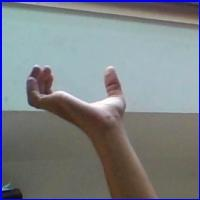B: (19, 58, 132, 137)
